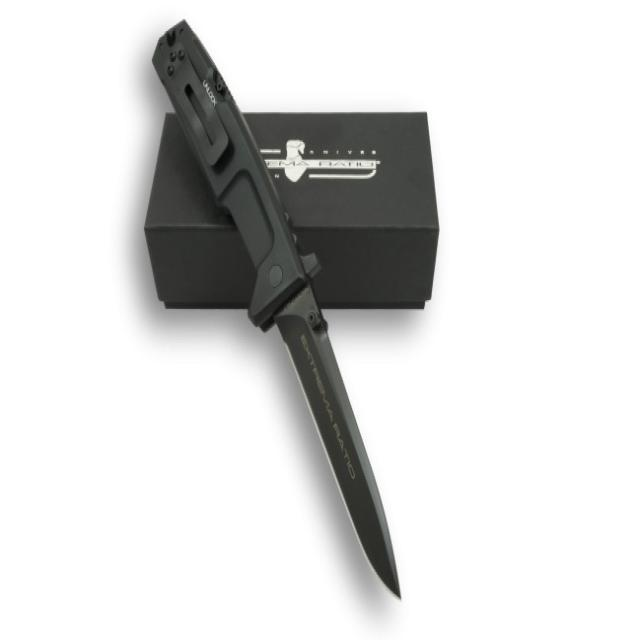knife: (150, 15, 409, 603)
